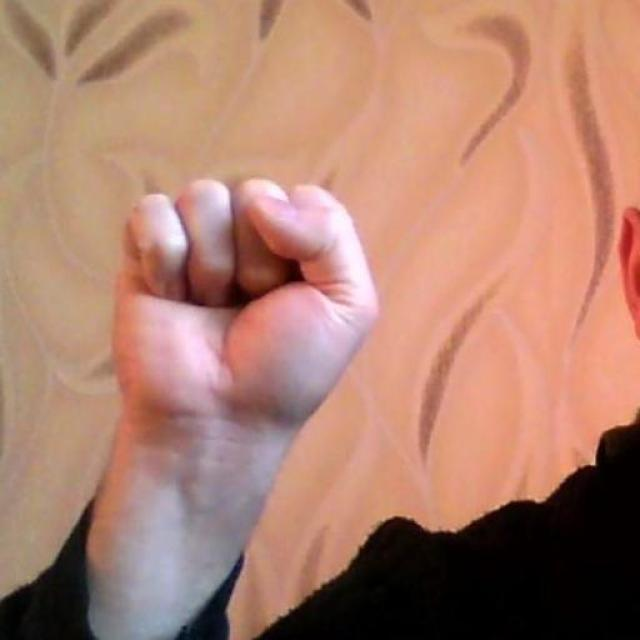hand: (81, 175, 378, 434)
